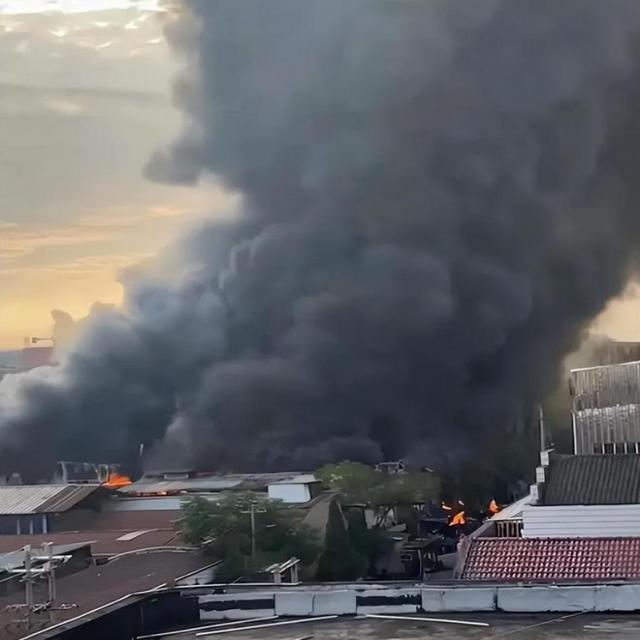Fire: (101, 472, 133, 488), (451, 512, 466, 528)
Smoke: (179, 5, 438, 186), (451, 4, 634, 244), (208, 216, 452, 360), (148, 354, 306, 468), (452, 254, 543, 366)
